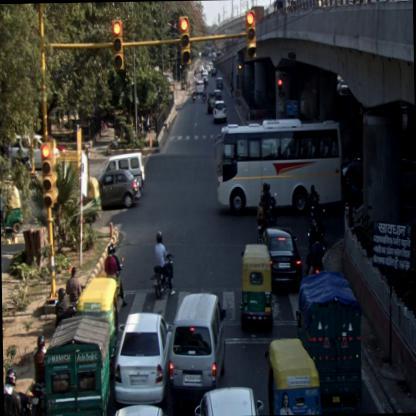bus: (213, 116, 345, 218)
car: (168, 288, 230, 392), (113, 308, 176, 404), (257, 226, 304, 292), (193, 384, 266, 415), (98, 168, 140, 210), (102, 154, 146, 190), (212, 100, 228, 122), (206, 93, 216, 113), (196, 80, 204, 96), (216, 76, 223, 90)
motorcycle: (150, 230, 177, 298), (27, 332, 49, 415), (104, 245, 127, 309), (254, 180, 278, 226), (192, 86, 196, 102), (202, 88, 206, 102)
truck: (295, 270, 362, 414), (44, 314, 112, 415)
